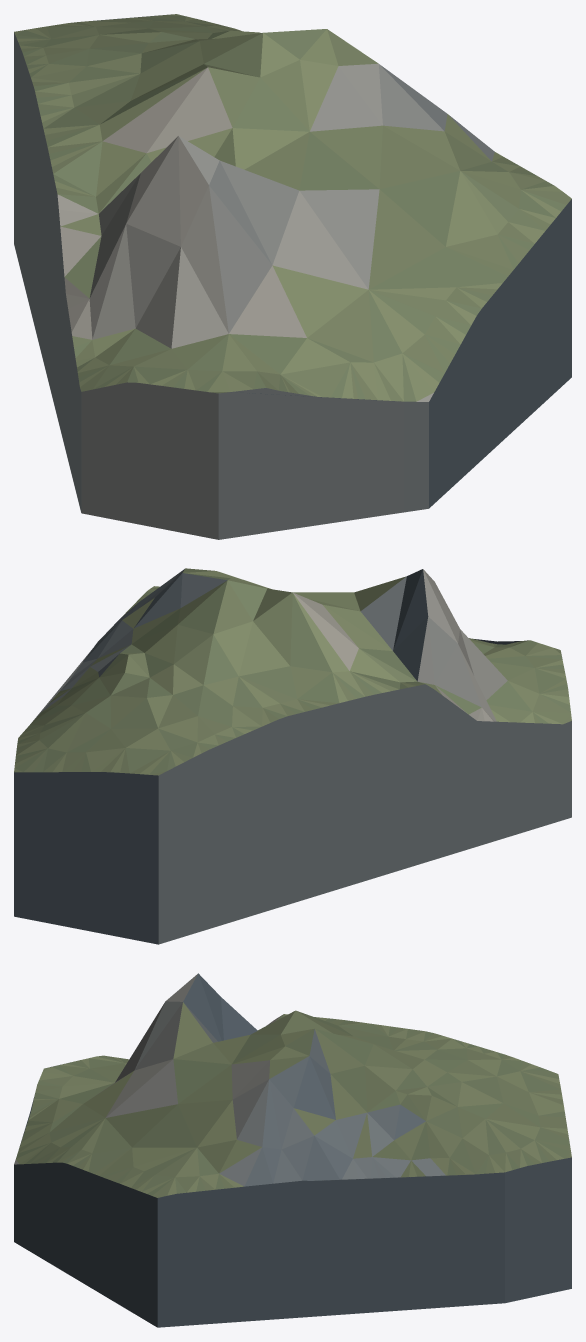
Rendered from cliff_sections_10i_eastern_plateau.glb.
3 views of the same model, one above another, from view 1: azimuth 30°, elevation 25°; view 2: azimuth 150°, elevation 25°; view 3: azimuth 270°, elevation 25° (orthographic). The views are drawn at different scales.
Parts seen in each view (by area): view 1: cliff_eastern_plateau; view 2: cliff_eastern_plateau; view 3: cliff_eastern_plateau.
Boxes of the visible parts, left/top/right/bottom form: cliff_eastern_plateau: left=14, top=14, right=571, bottom=539; cliff_eastern_plateau: left=14, top=568, right=571, bottom=944; cliff_eastern_plateau: left=14, top=973, right=571, bottom=1327.
Size of the model in its own units: 130 by 77 by 171.
